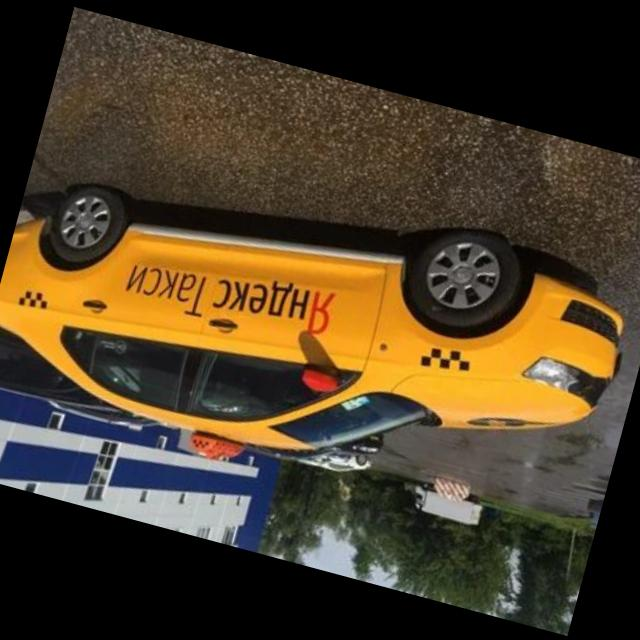taxi: (1, 114, 640, 558)
